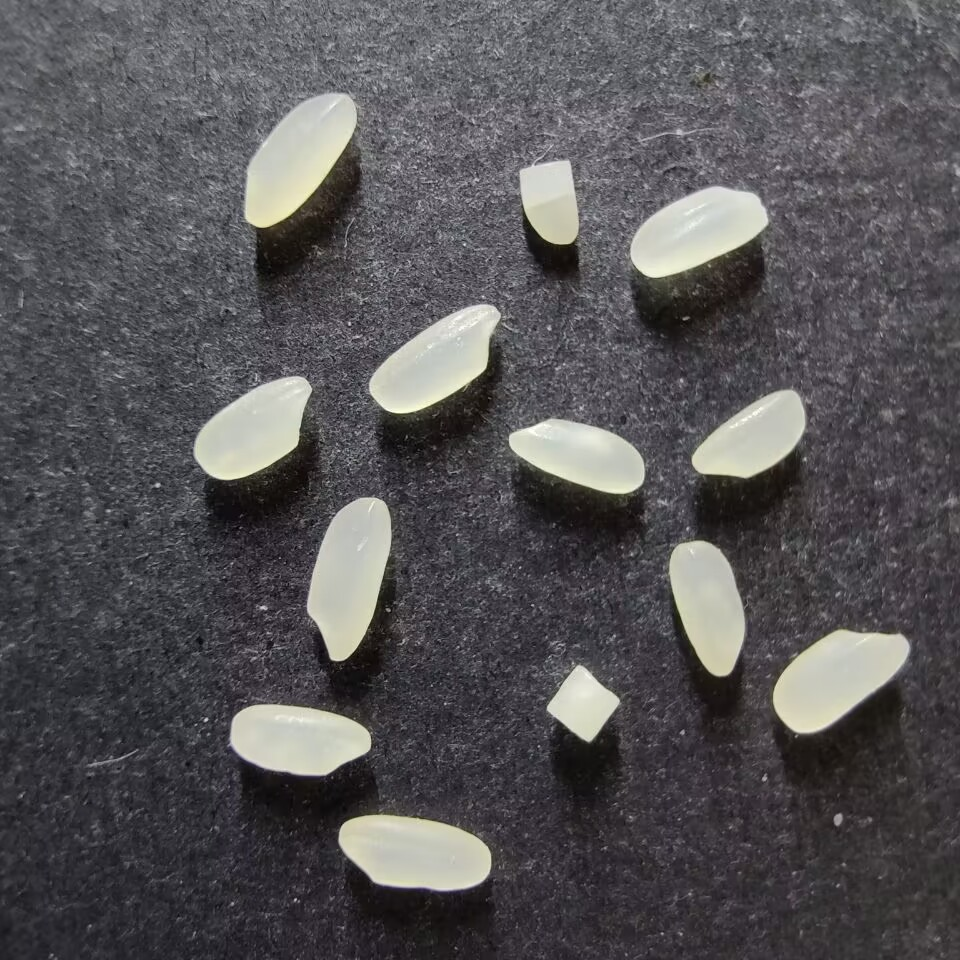broken: (546, 665, 620, 743), (519, 160, 578, 245)
rice: (243, 93, 357, 228), (305, 496, 392, 662), (369, 303, 500, 413), (772, 629, 909, 734), (629, 186, 768, 278), (193, 376, 312, 480), (337, 814, 491, 890), (668, 540, 746, 677), (508, 418, 645, 494), (229, 703, 371, 776), (691, 389, 806, 478)
